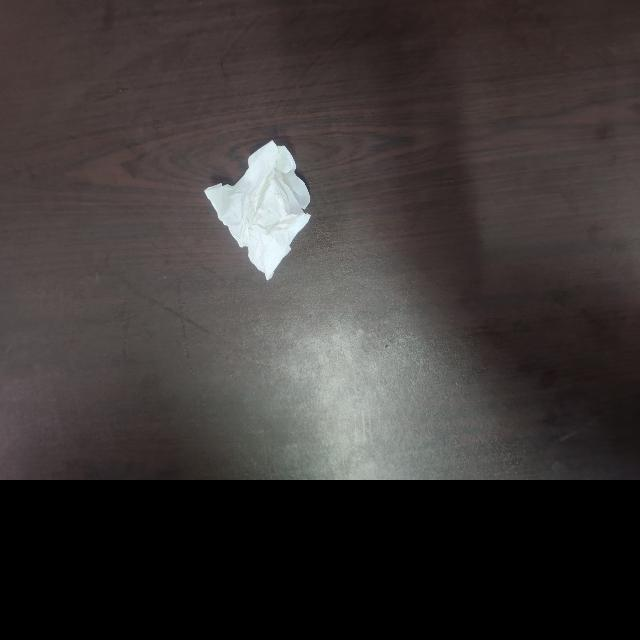kitchen paper: (195, 137, 317, 285)
